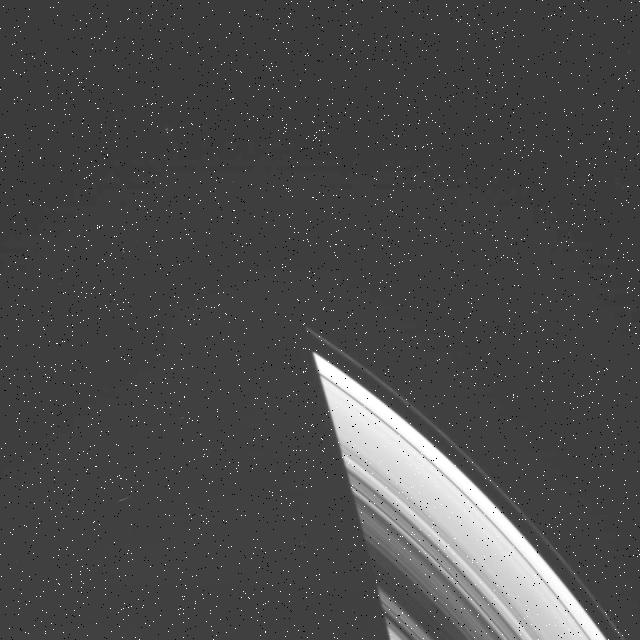Saturn: (303, 325, 640, 640)
